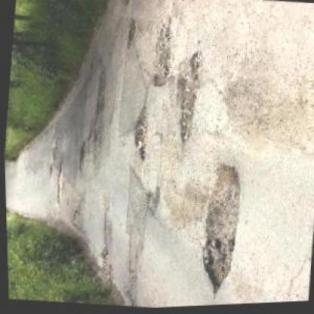Hueco: (192, 161, 246, 296), (167, 49, 206, 146), (148, 23, 177, 88), (129, 105, 150, 161), (141, 183, 162, 216), (52, 160, 64, 203), (123, 15, 138, 49), (75, 140, 87, 172)
